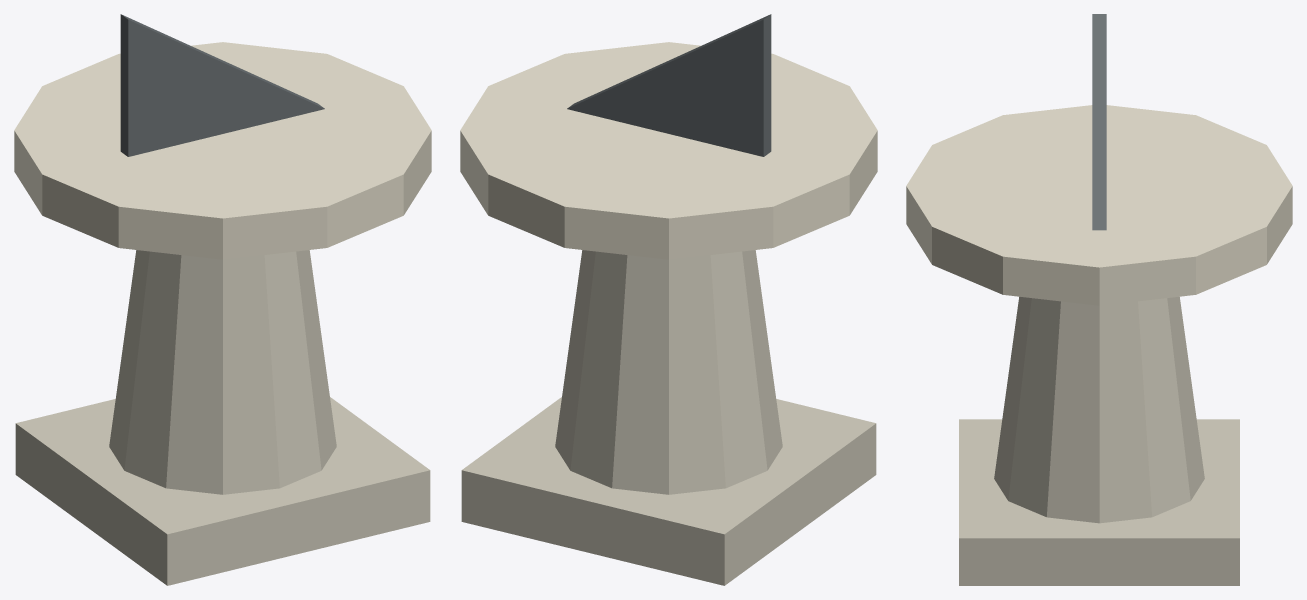
Rendered from sundial.glb.
3 views of the same model, side by side, from view 1: azimuth 30°, elevation 25°; view 2: azimuth 150°, elevation 25°; view 3: azimuth 270°, elevation 25° (orthographic). The views are drawn at different scales.
Parts seen in each view (by area): view 1: sundial; view 2: sundial; view 3: sundial.
Part boxes in pixels (<box>): sundial: <box>14,14,431,585</box>; sundial: <box>460,14,877,585</box>; sundial: <box>906,14,1292,585</box>.
Size of the model in its own units: 1.1 by 1.47 by 1.1.
